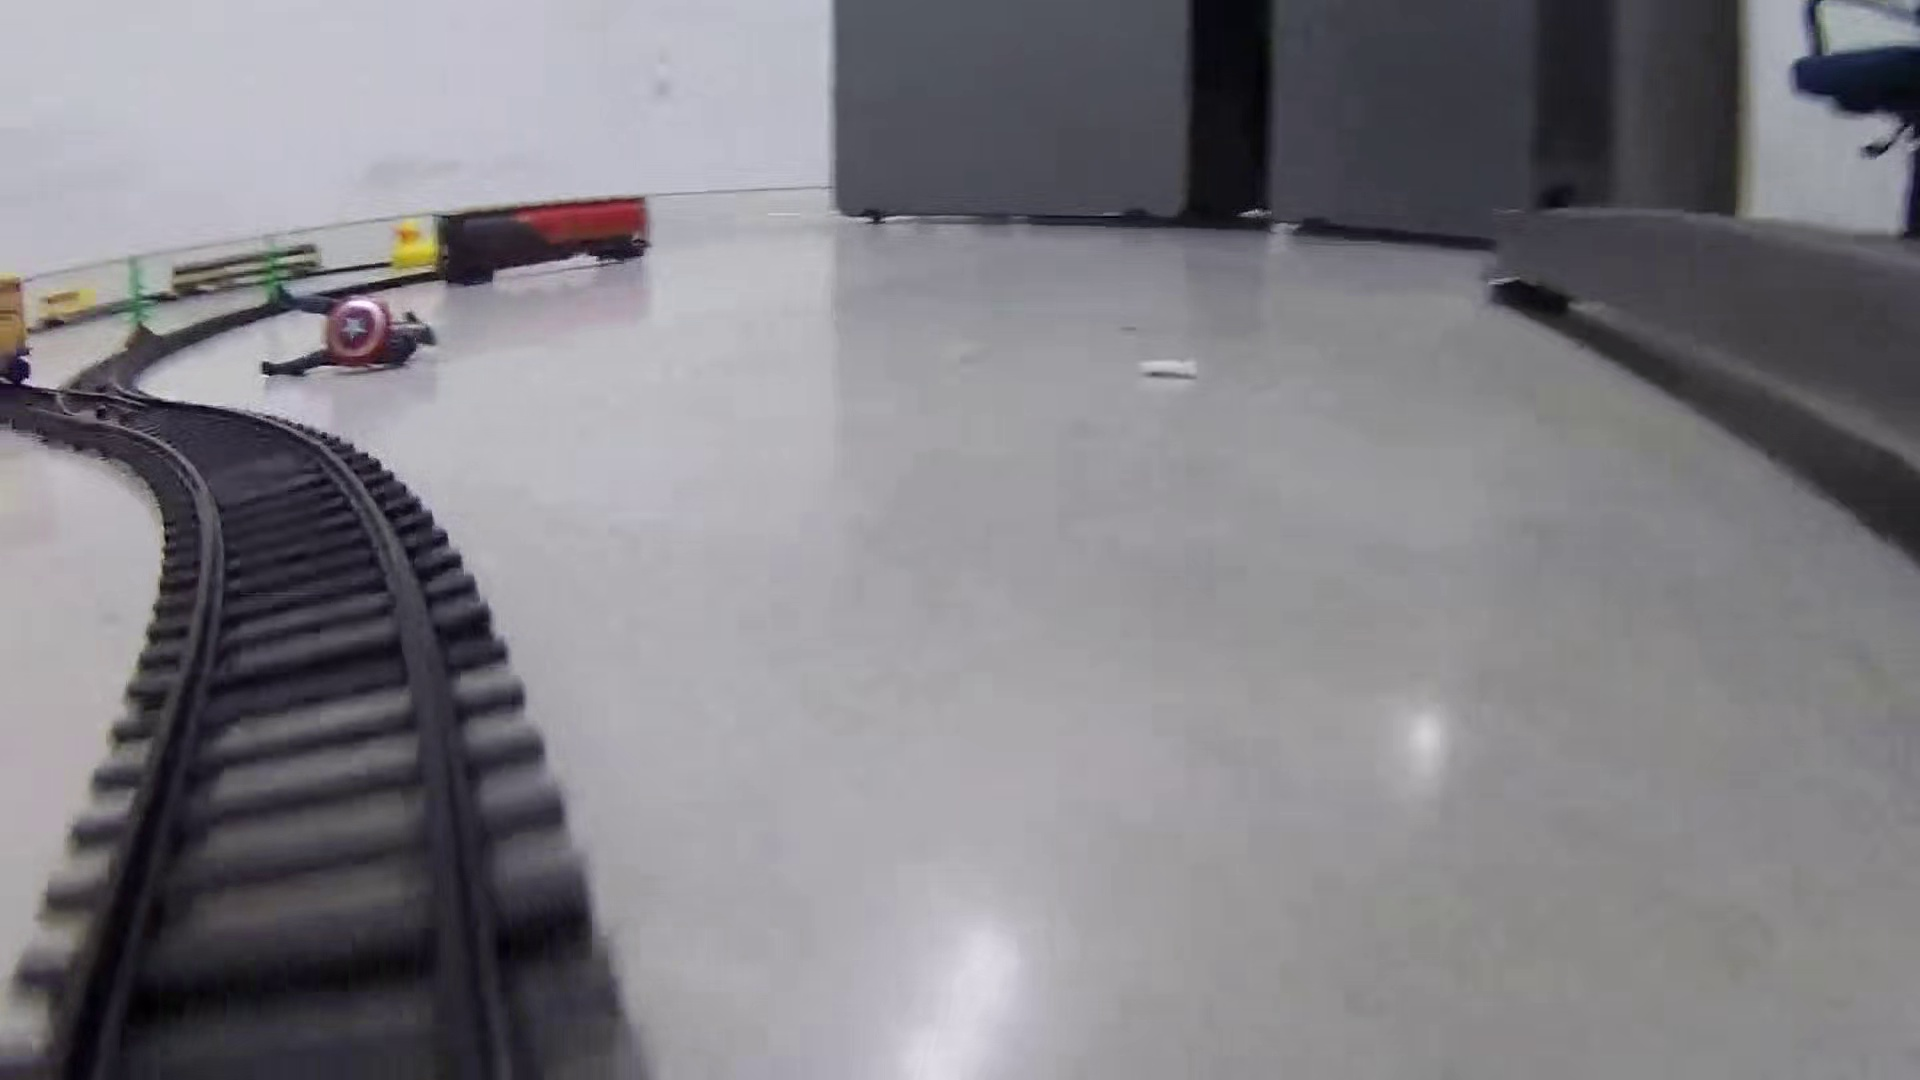people: (259, 281, 439, 377)
tree: (114, 253, 173, 354)
